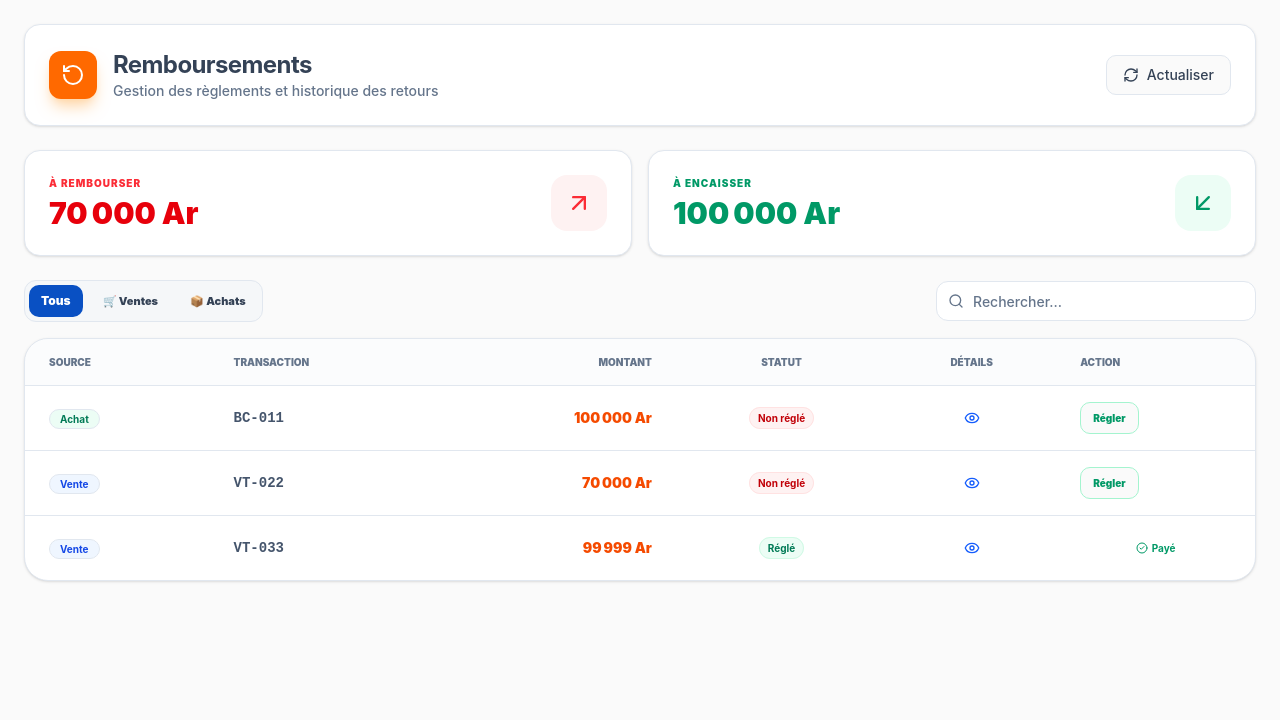
Mission 3 — Remboursements : détail de la transaction source (chargement différé) › affiche « Indisponible » et une erreur si la source ne peut pas être chargée
Expected: the text "BC-011" is shown, [210,386,441,451]
What coordinates should you click on to do the following:
click the button without text in the row of "BC-011"
I would click on:
 (972, 418)
Its box is [956,402,988,434].
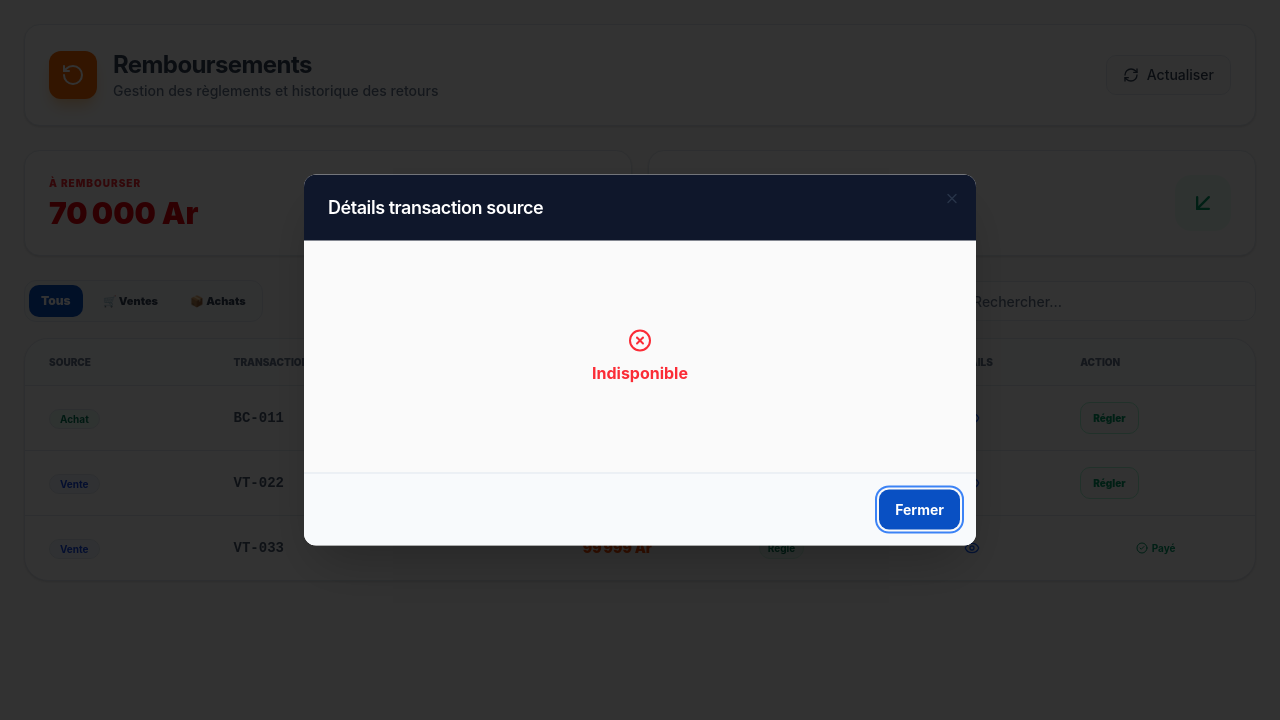
Expected: the text "Indisponible" is shown, [592,328,688,382]
